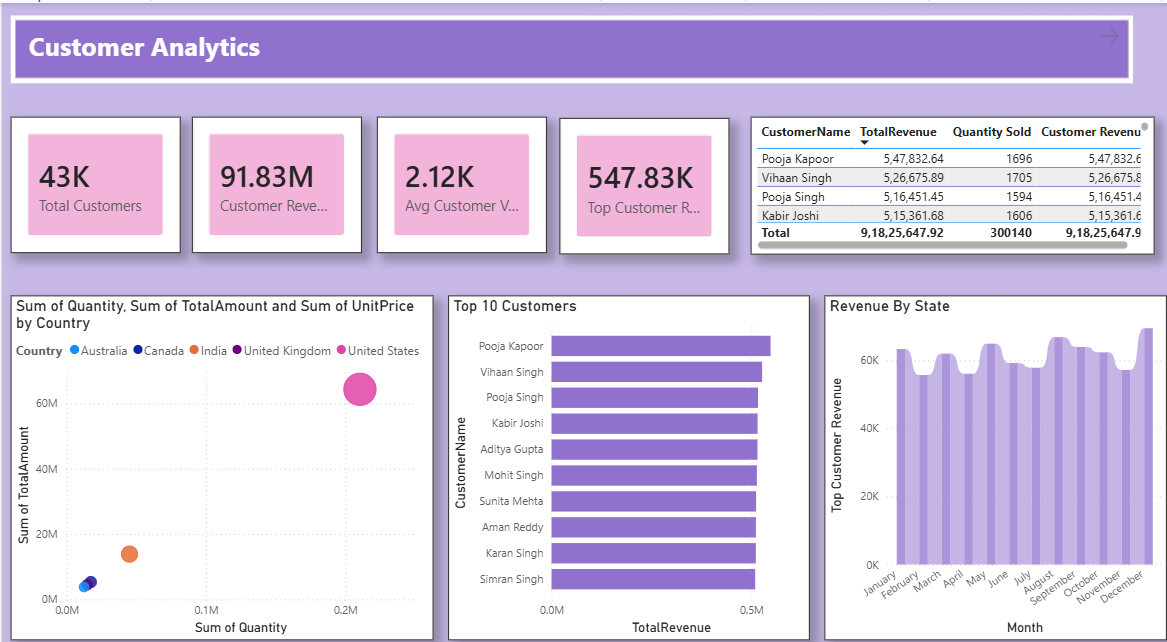

This screenshot's page, from the dashboard's own definition file:
{"tool":"powerbi","page":{"name":"Customer Analytics","canvas":[1280,720],"ordinal":2},"visuals":[{"type":"textSlicer","box":[9.6,13.7,1232.3,74.1],"z":0},{"type":"cardVisual","fields":{"Data":["amazonanalytics amazonsales.Top Customer Revenue"]},"box":[612,126.2,186.6,149.6],"z":1000},{"type":"cardVisual","fields":{"Data":["amazonanalytics amazonsales.Customer Revenue"]},"box":[208.6,124.9,186.6,149.6],"z":2000},{"type":"cardVisual","fields":{"Data":["amazonanalytics amazonsales.Avg Customer Value"]},"box":[411.7,124.9,186.6,149.6],"z":3000},{"type":"cardVisual","fields":{"Data":["amazonanalytics amazonsales.Total Customers"]},"box":[9.6,124.9,186.6,149.6],"z":4000},{"type":"scatterChart","fields":{"X":["Sum(amazonanalytics amazonsales.Quantity)"],"Y":["Sum(amazonanalytics amazonsales.TotalAmount)"],"Size":["Sum(amazonanalytics amazonsales.UnitPrice)"],"Series":["amazonanalytics amazonsales.Country"]},"box":[10,321.4,464.3,378.6],"z":5000},{"type":"clusteredBarChart","title":"Top 10 Customers","fields":{"Category":["amazonanalytics amazonsales.CustomerName"],"Y":["amazonanalytics amazonsales.TotalRevenue"]},"box":[490,321.4,397.1,378.6],"z":6000},{"type":"tableEx","fields":{"Values":["amazonanalytics amazonsales.CustomerName","amazonanalytics amazonsales.TotalRevenue","amazonanalytics amazonsales.Quantity Sold","amazonanalytics amazonsales.Customer Revenue"]},"box":[821.4,124.3,442.9,151.4],"z":7000},{"type":"ribbonChart","title":"Revenue By State","fields":{"Category":["amazonanalytics amazonsales.OrderDate_New.Variation.Date Hierarchy.Month"],"Y":["amazonanalytics amazonsales.Top Customer Revenue"]},"box":[902.9,321.4,377.1,378.6],"z":8000}]}

Visuals, with their boxes in screenshot pixels (x1, y1, x2, y2), scaled from the page's 1280x720 canvas onto the 1167x642 screenshot:
textSlicer: box(9, 12, 1132, 78)
cardVisual - amazonanalytics amazonsales.Top Customer Revenue: box(558, 113, 728, 246)
cardVisual - amazonanalytics amazonsales.Customer Revenue: box(190, 111, 360, 245)
cardVisual - amazonanalytics amazonsales.Avg Customer Value: box(375, 111, 545, 245)
cardVisual - amazonanalytics amazonsales.Total Customers: box(9, 111, 179, 245)
scatterChart - Sum(amazonanalytics amazonsales.Quantity) x Sum(amazonanalytics amazonsales.TotalAmount): box(9, 287, 432, 624)
"Top 10 Customers" clusteredBarChart: box(447, 287, 809, 624)
tableEx - amazonanalytics amazonsales.CustomerName x amazonanalytics amazonsales.TotalRevenue: box(749, 111, 1153, 246)
"Revenue By State" ribbonChart: box(823, 287, 1166, 624)
